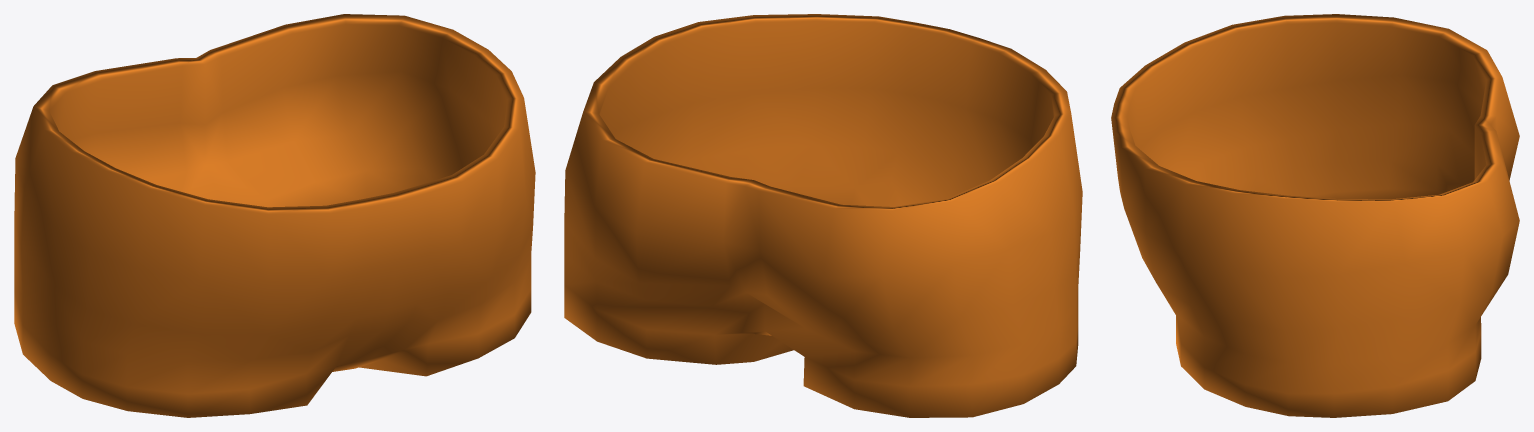
The model's file is CU_PrisonShorts.fbx.
3 views of the same model, side by side, from view 1: azimuth 30°, elevation 25°; view 2: azimuth 150°, elevation 25°; view 3: azimuth 270°, elevation 25° (orthographic). The views are drawn at different scales.
Parts seen in each view (by area): view 1: SpacedOutShorts; view 2: SpacedOutShorts; view 3: SpacedOutShorts.
Part boxes in pixels (left/top/right/bottom): SpacedOutShorts: left=14, top=14, right=535, bottom=417; SpacedOutShorts: left=564, top=14, right=1082, bottom=417; SpacedOutShorts: left=1111, top=14, right=1519, bottom=417.
Bounding box in the file's own units: 174 × 84.08 × 145.
